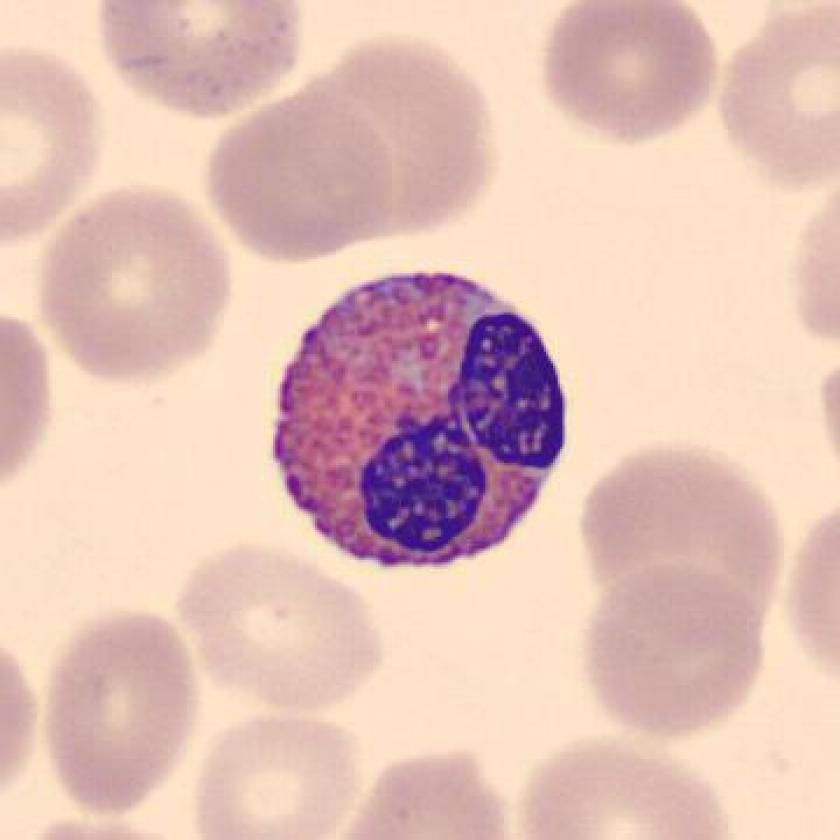eosinophil: (258, 256, 580, 589)
